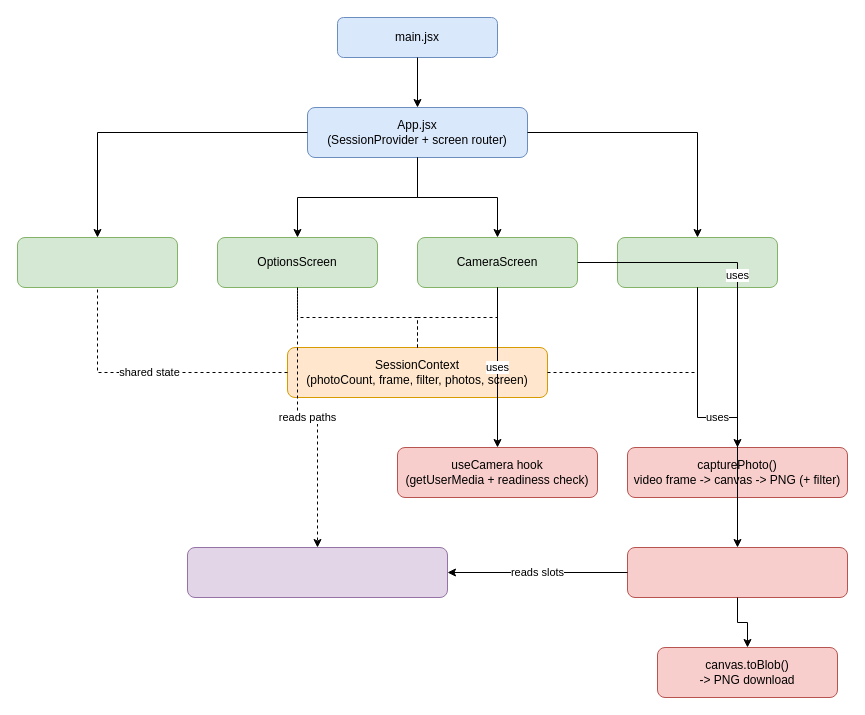
Image size: 865x715. Some labels were removed from this diagram. Here are the shapes that lost their labels. From the top down, the box of each, then its label:
(16, 236, 178, 288): WelcomeScreen
(616, 236, 778, 288): FinalScreen
(186, 546, 448, 598): frames.js frame asset paths + measured photo-slot geometry
(626, 546, 848, 598): composeFinalImage() photos + frame PNG -> canvas
